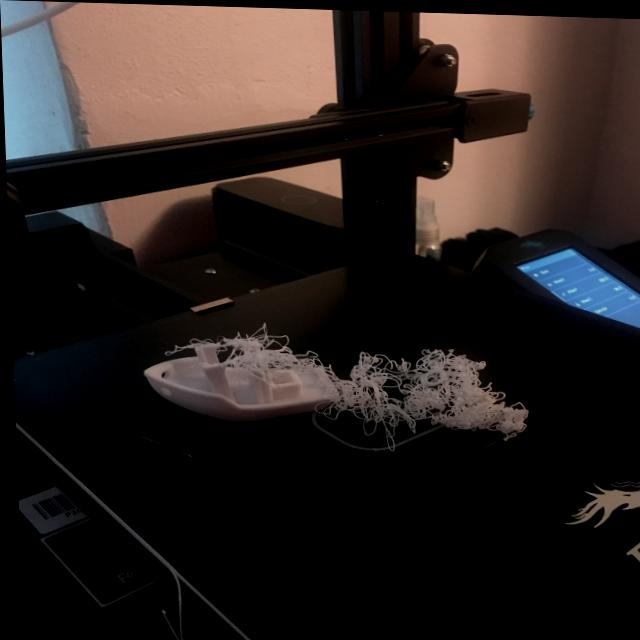spaghetti: (107, 301, 354, 467), (318, 309, 553, 471)
